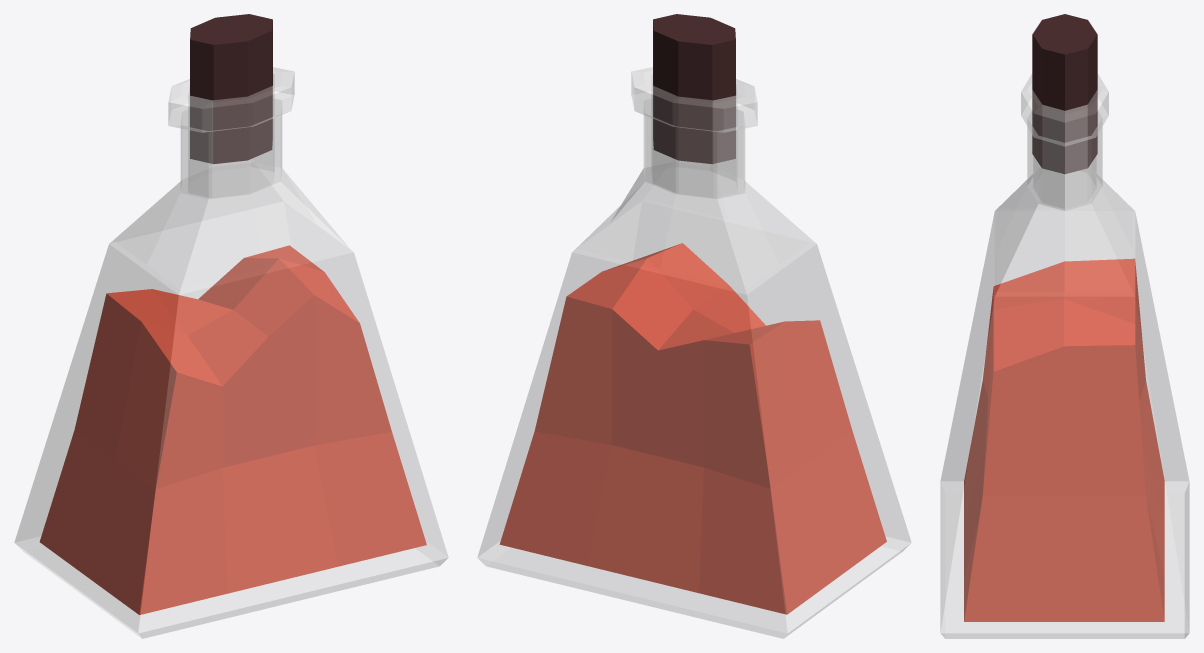
Rendered from PoçaoTriangular.fbx.
The picture shows the model from 3 angles, left to right: view 1: azimuth 30°, elevation 25°; view 2: azimuth 150°, elevation 25°; view 3: azimuth 270°, elevation 25°; orthographic projection.
Visible parts, largest first — view 1: PoçãoTriangular, PoçãoTriangularLiquido; view 2: PoçãoTriangular, PoçãoTriangularLiquido; view 3: PoçãoTriangular, PoçãoTriangularLiquido.
Boxes of the visible parts, x1,y1,x2,y2 form: PoçãoTriangular: (14, 14, 448, 638); PoçãoTriangularLiquido: (39, 245, 426, 614); PoçãoTriangular: (477, 14, 911, 638); PoçãoTriangularLiquido: (499, 243, 886, 614); PoçãoTriangular: (940, 14, 1189, 638); PoçãoTriangularLiquido: (964, 258, 1164, 621).
Bounding box in the file's own units: 68.73 × 112 × 47.53.
